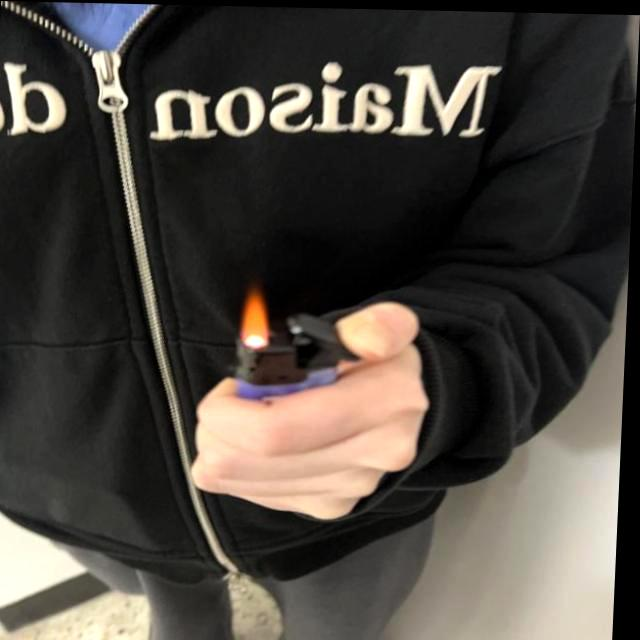fire: (242, 280, 274, 348)
